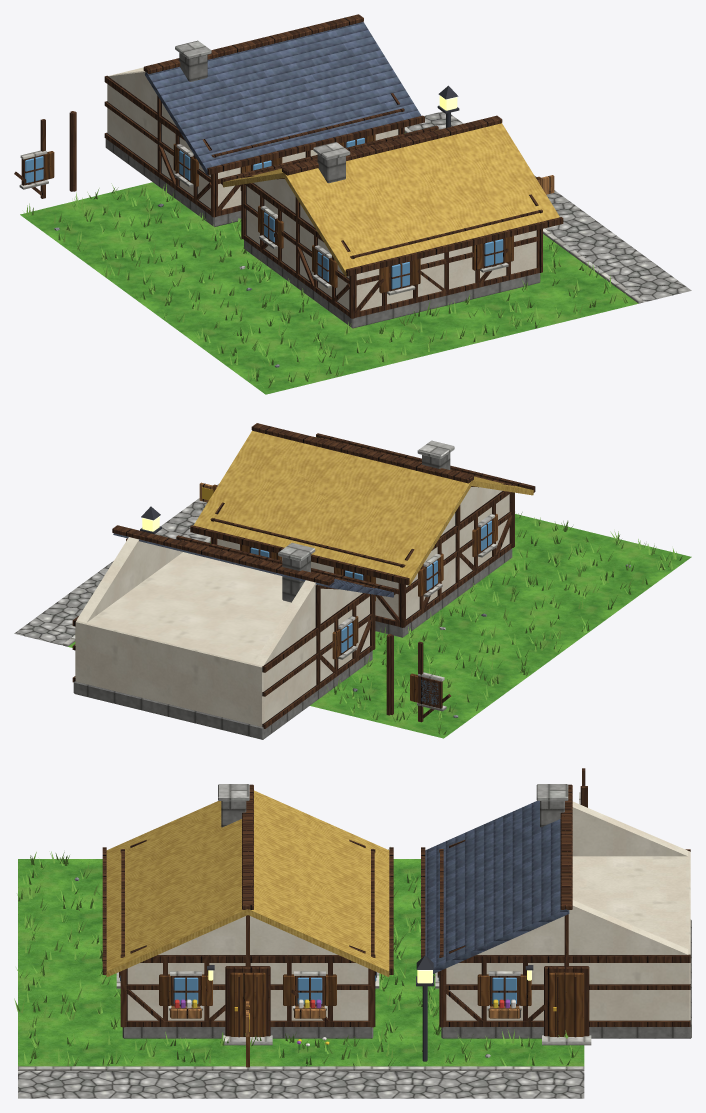
File: chunk_1_10.glb
3 renders of one model, top to bottom at view 1: azimuth 30°, elevation 25°; view 2: azimuth 150°, elevation 25°; view 3: azimuth 270°, elevation 25°, orthographic. The views are drawn at different scales.
Parts seen in each view (by area): view 1: chunk_1_10; view 2: chunk_1_10; view 3: chunk_1_10.
Boxes of the visible parts, x1,y1,x2,y2 form: chunk_1_10: [14, 14, 691, 394]; chunk_1_10: [14, 423, 691, 739]; chunk_1_10: [14, 768, 691, 1098].
Bounding box in the file's own units: 16.22 × 4.99 × 19.15.
Materials: 23 (14 with a texture image).
